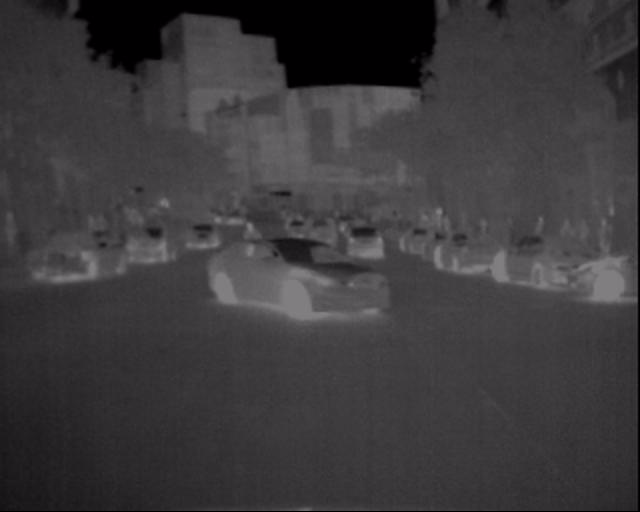person: (240, 216, 268, 274), (592, 209, 619, 260), (554, 211, 578, 260), (573, 212, 596, 254)
